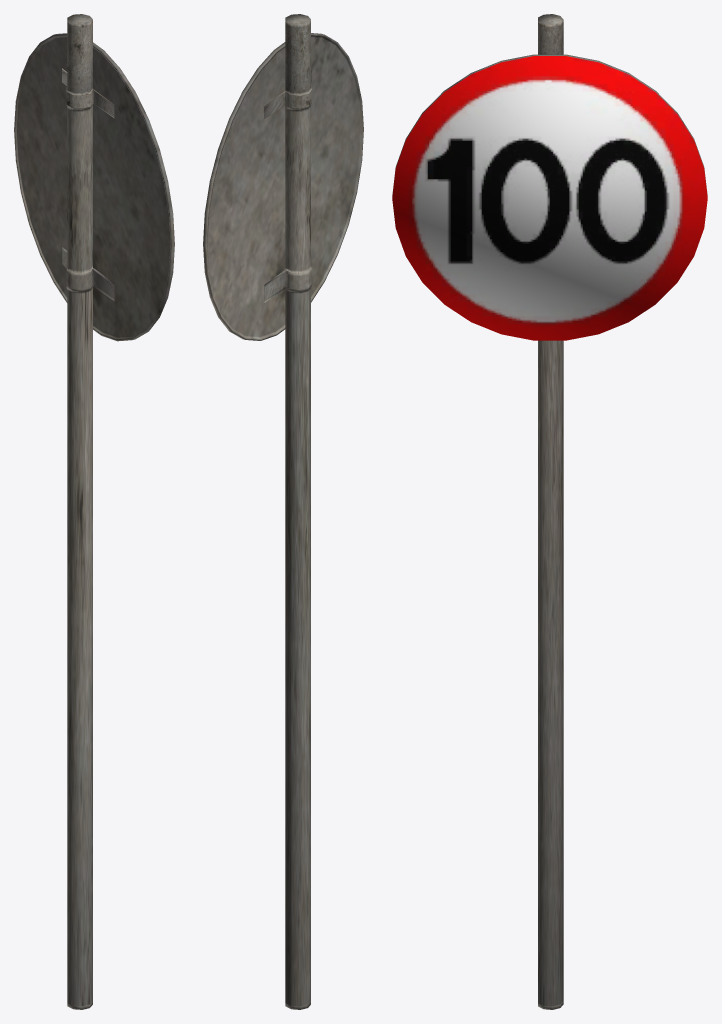
The model's file is znak_100.dae.
3 renders of one model, left to right at view 1: azimuth 30°, elevation 25°; view 2: azimuth 150°, elevation 25°; view 3: azimuth 270°, elevation 25°, orthographic.
Parts seen in each view (by area): view 1: znak100_a65; view 2: znak100_a65; view 3: znak100_a65.
Boxes of the visible parts, x1,y1,x2,y2 form: znak100_a65: [14, 14, 174, 1009]; znak100_a65: [203, 14, 363, 1009]; znak100_a65: [392, 14, 707, 1009].
Bounding box in the file's own units: 0.06 × 0.5807 × 2.
1 material, 1 textured.
